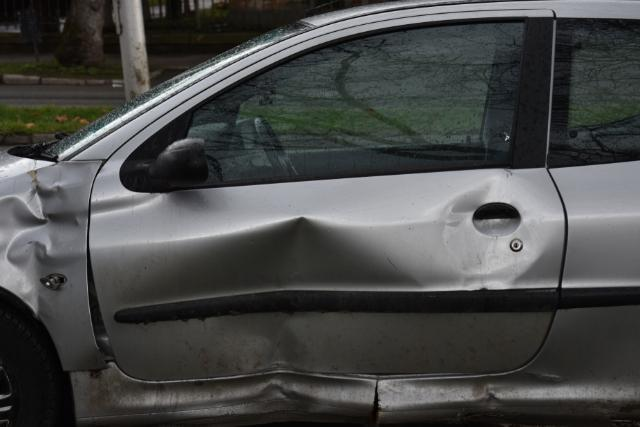Door: (98, 168, 546, 389)
Fender: (0, 164, 98, 326)
